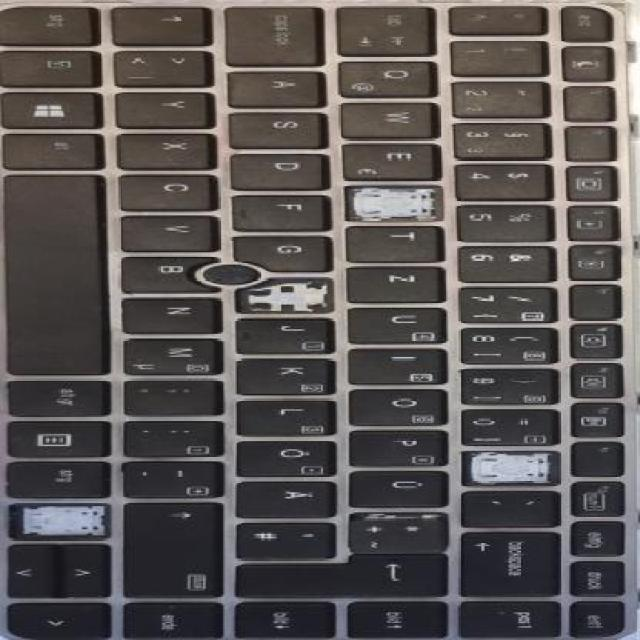Keyboard problems: (346, 186, 442, 220), (237, 278, 332, 312), (465, 452, 558, 485), (17, 505, 108, 537)
